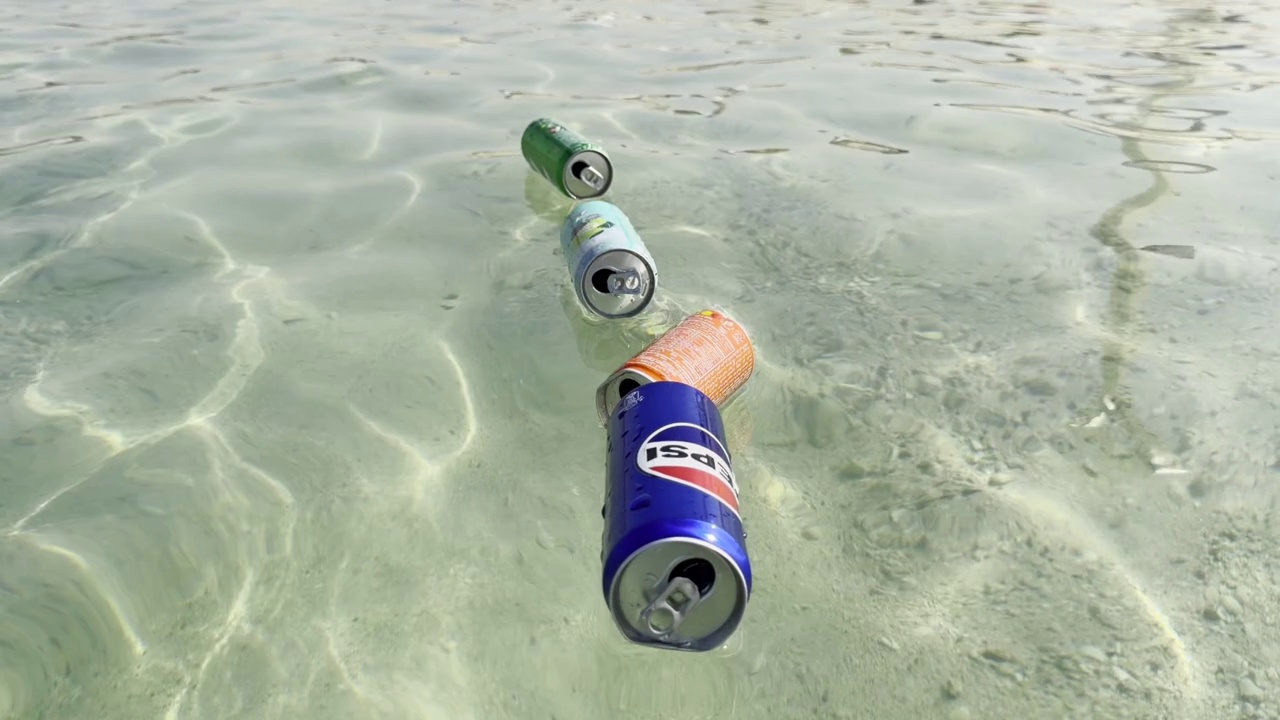debris: (603, 375, 761, 659), (589, 294, 760, 457), (546, 194, 666, 332), (515, 112, 617, 210)
